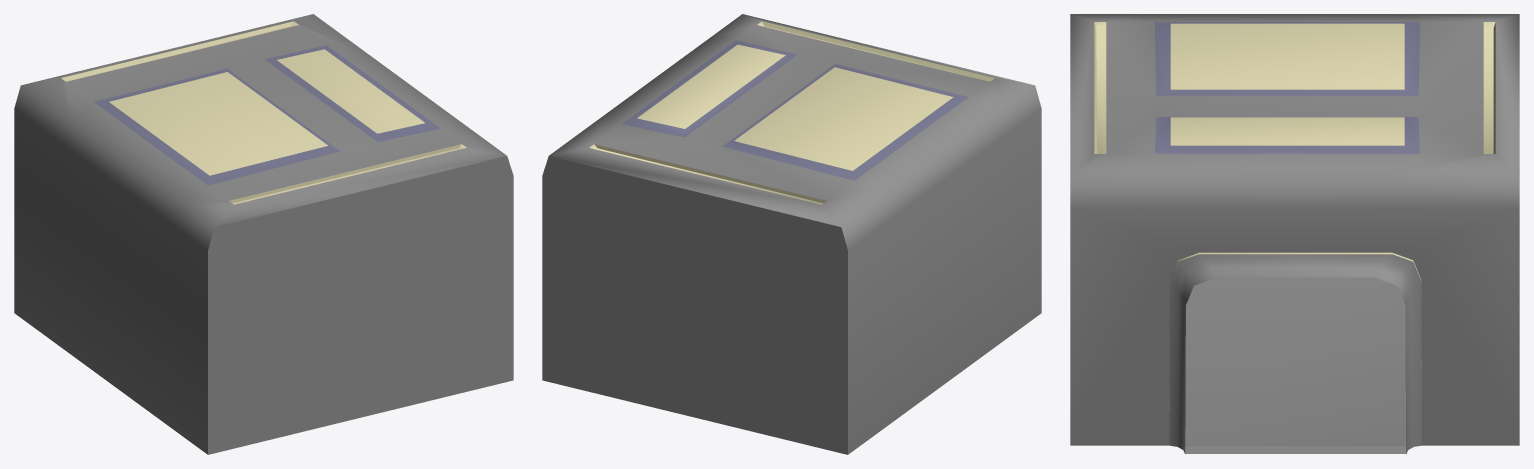
File: Empty room.fbx
3 renders of one model, left to right at view 1: azimuth 30°, elevation 25°; view 2: azimuth 150°, elevation 25°; view 3: azimuth 270°, elevation 25°, orthographic. The views are drawn at different scales.
Visible parts, largest first — view 1: Cube.015; view 2: Cube.015; view 3: Cube.015.
Part boxes in pixels (x1,y1,x2,y2): Cube.015: (14, 14, 513, 454); Cube.015: (542, 14, 1041, 454); Cube.015: (1070, 14, 1519, 454).
Bounding box in the file's own units: 434 × 304 × 449.
